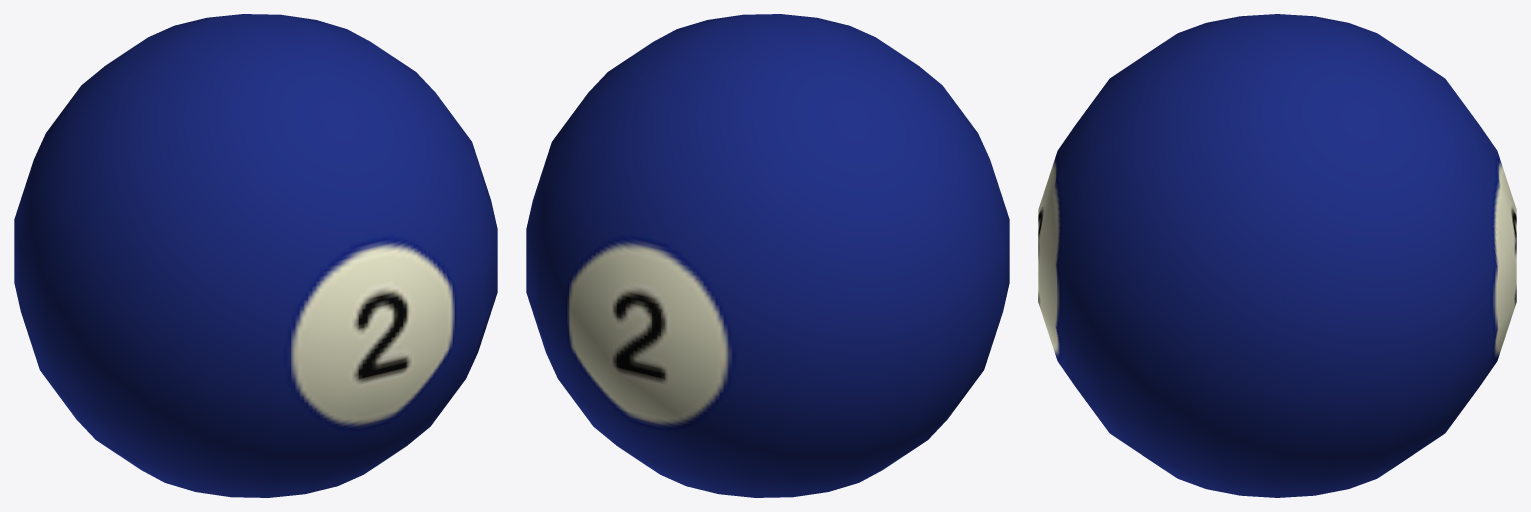
File: Ball_2.FBX
The picture shows the model from 3 angles, left to right: view 1: azimuth 30°, elevation 25°; view 2: azimuth 150°, elevation 25°; view 3: azimuth 270°, elevation 25°; orthographic projection.
Visible parts, largest first — view 1: Ball_2; view 2: Ball_2; view 3: Ball_2.
Boxes of the visible parts, x1,y1,x2,y2 form: Ball_2: (14, 14, 497, 497); Ball_2: (526, 14, 1009, 497); Ball_2: (1038, 14, 1516, 497).
Size of the model in its own units: 5.64 by 5.7 by 5.58.
